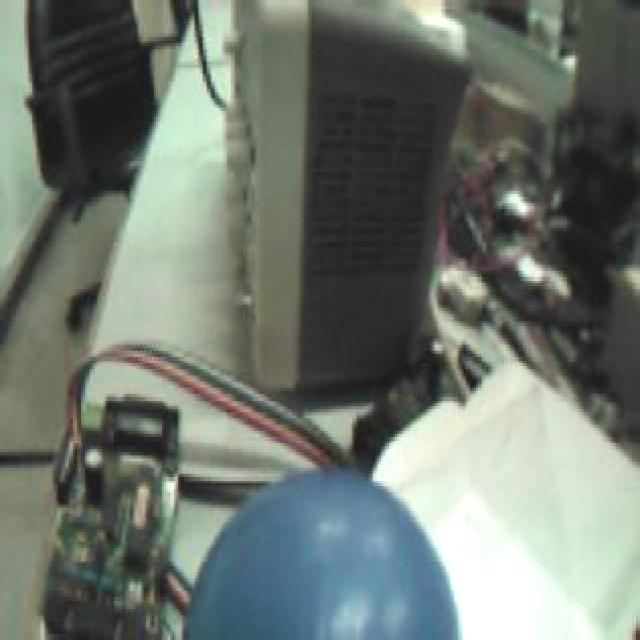BallPurple: (185, 471, 460, 640)
